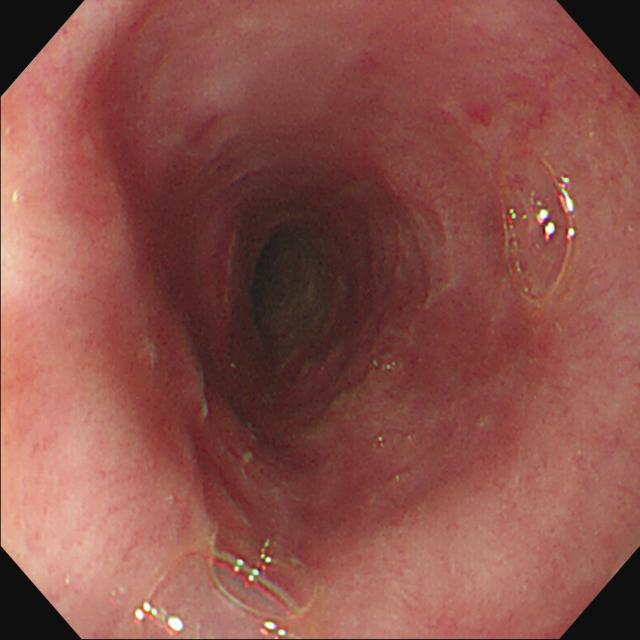E: (253, 226, 334, 356)
T: (135, 523, 320, 640), (496, 145, 580, 308)
